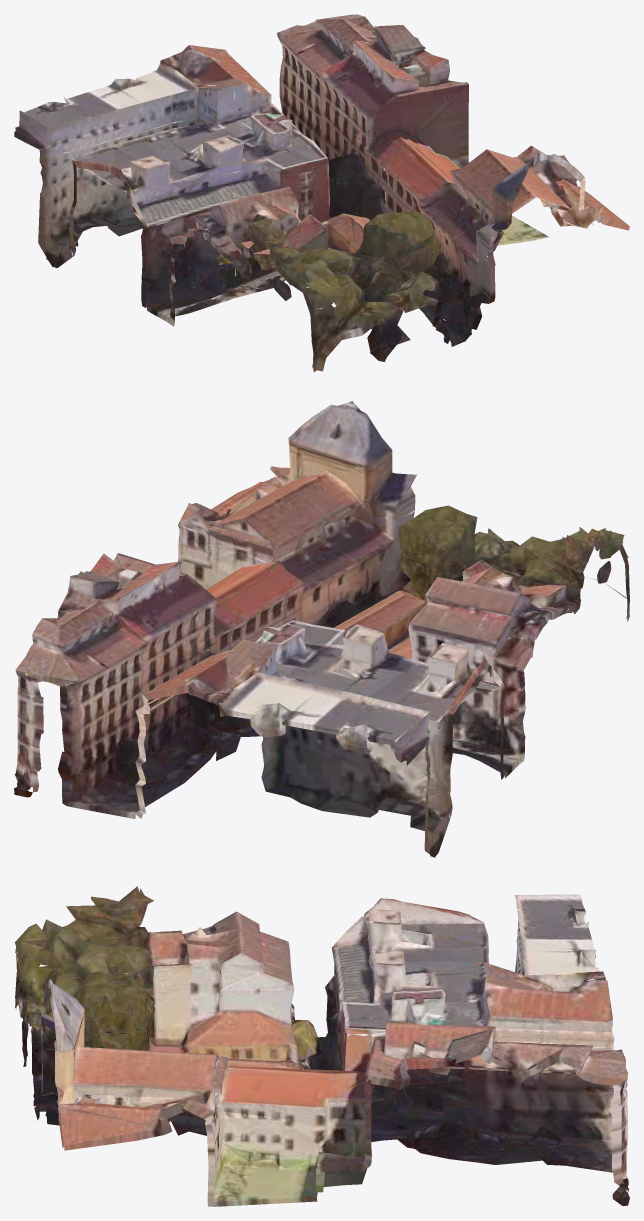
3 renders of one model, top to bottom at view 1: azimuth 30°, elevation 25°; view 2: azimuth 150°, elevation 25°; view 3: azimuth 270°, elevation 25°, orthographic. The views are drawn at different scales.
Parts seen in each view (by area): view 1: Mesh_0; view 2: Mesh_0; view 3: Mesh_0.
Boxes of the visible parts, x1,y1,x2,y2 form: Mesh_0: [14, 14, 629, 372]; Mesh_0: [14, 401, 629, 857]; Mesh_0: [14, 886, 629, 1206].
Size of the model in its own units: 66.57 by 32.53 by 82.55.
Materials: 1 (1 with a texture image).
